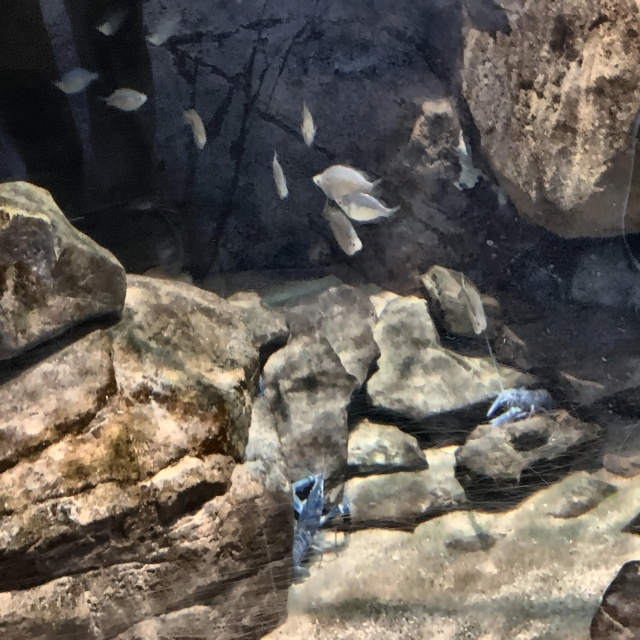fish: (311, 162, 383, 204), (319, 199, 363, 261), (335, 192, 404, 226), (457, 273, 486, 335), (52, 64, 101, 98), (179, 103, 209, 153), (100, 86, 148, 115), (269, 148, 291, 204), (299, 99, 319, 150), (142, 31, 170, 51)
